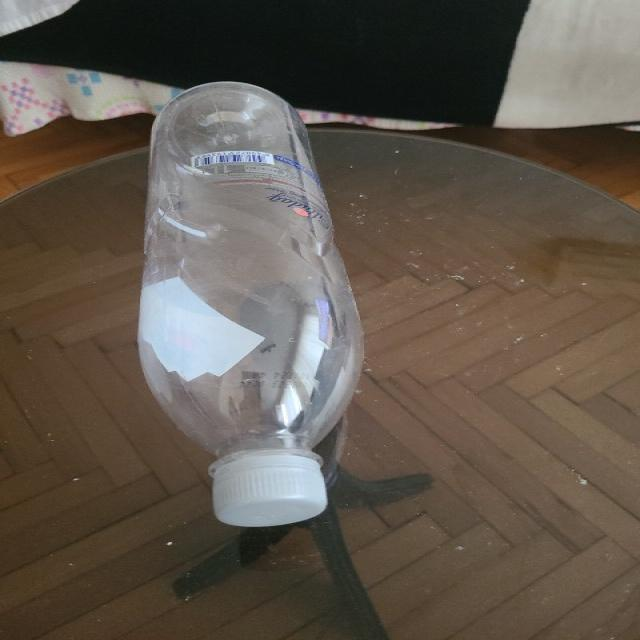plastic_bottle: (137, 81, 366, 527)
